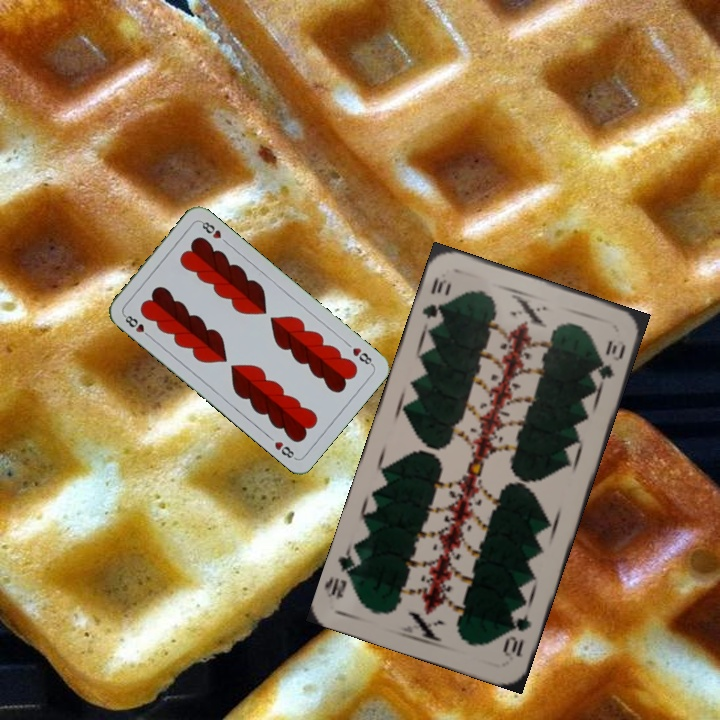G10: (418, 272, 454, 331), (499, 609, 535, 663)
H8: (120, 310, 154, 340), (348, 343, 376, 368)
